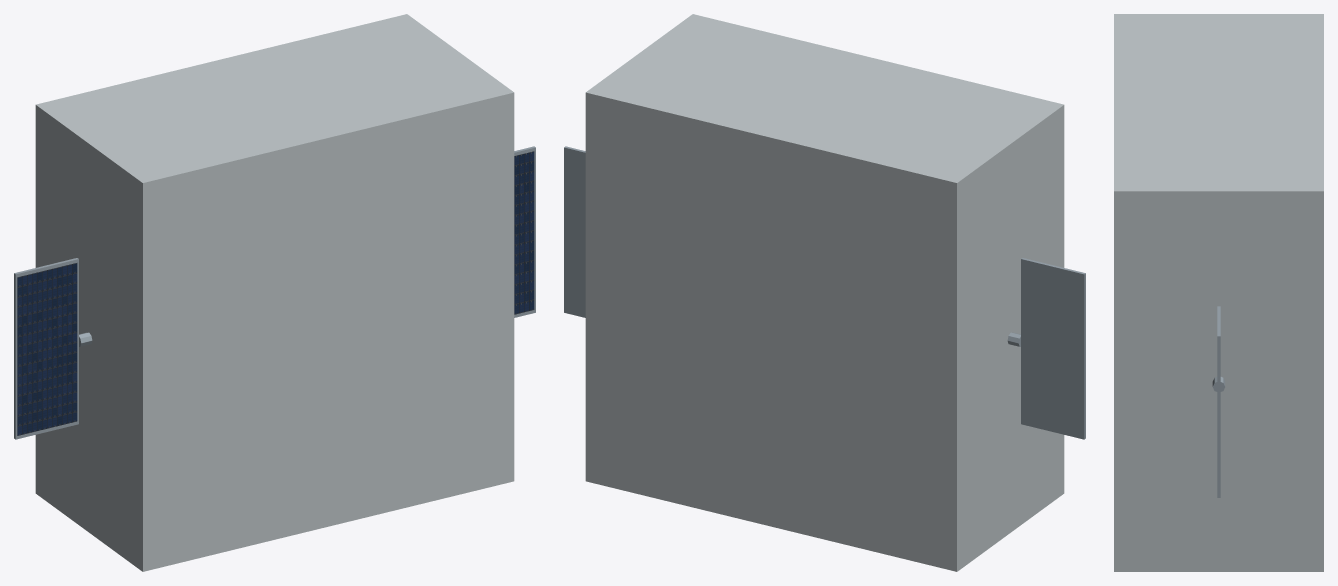
File: ref-atomos-59131.glb
3 views of the same model, side by side, from view 1: azimuth 30°, elevation 25°; view 2: azimuth 150°, elevation 25°; view 3: azimuth 270°, elevation 25° (orthographic). The views are drawn at different scales.
Parts seen in each view (by area): view 1: Spacecraft body, Photovoltaic laminates (×2), Array frame; view 2: Spacecraft body, Array frame (×2); view 3: Spacecraft body, Array frame.
Part boxes in pixels (box(x1,y1,x2,y2)): Spacecraft body: box(35, 14, 514, 571); Photovoltaic laminates (×2): box(17, 151, 534, 435); Array frame: box(14, 258, 78, 439); Spacecraft body: box(585, 14, 1064, 571); Array frame (×2): box(564, 146, 1085, 439); Spacecraft body: box(1114, 14, 1323, 571); Array frame: box(1217, 306, 1220, 497).
Bounding box in the file's own units: 1.4 × 1 × 0.5.
3 materials, 1 textured.
